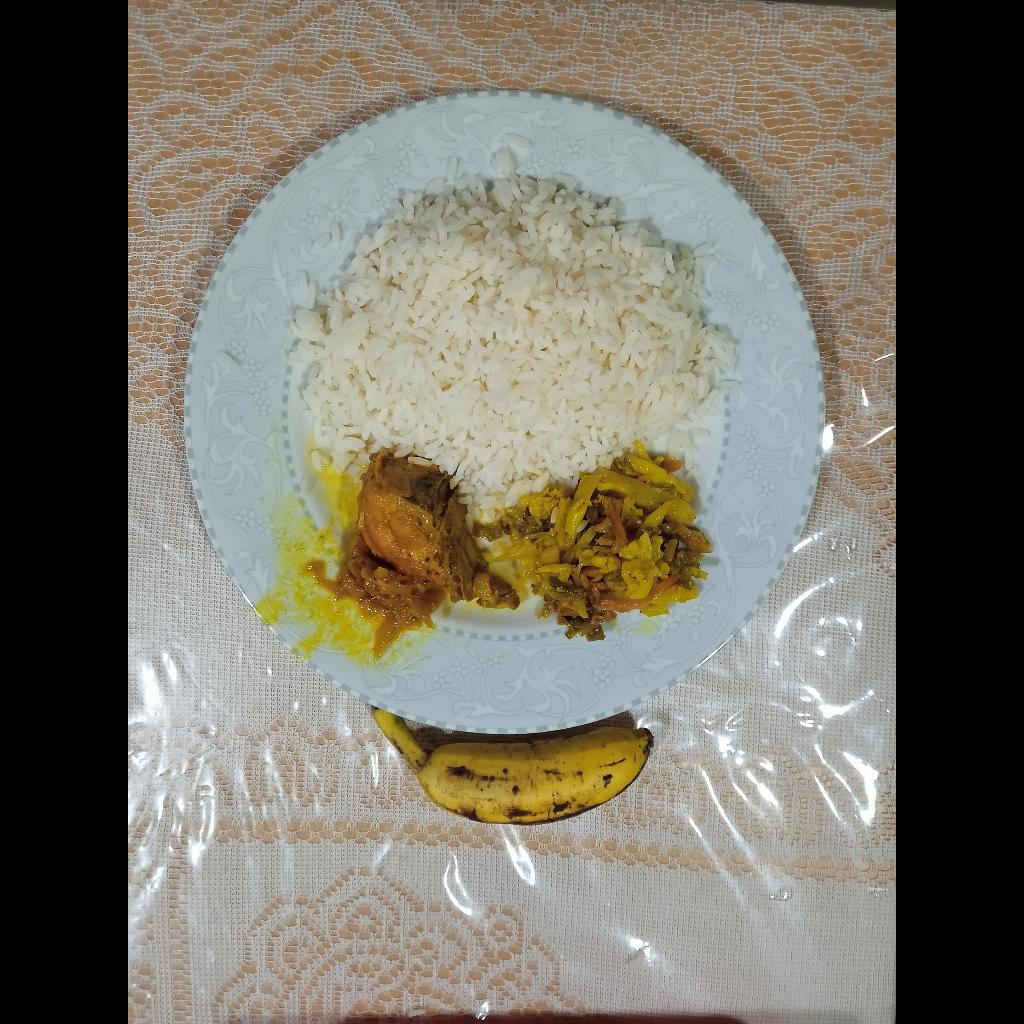banana: (371, 705, 656, 825)
chicken: (354, 450, 521, 610)
rice: (285, 147, 742, 511)
vegetable: (474, 444, 715, 642)
